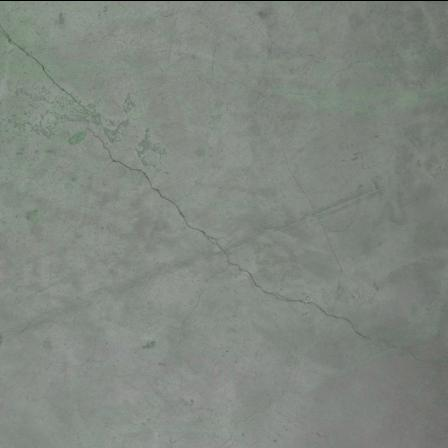crack: (0, 21, 445, 404)
